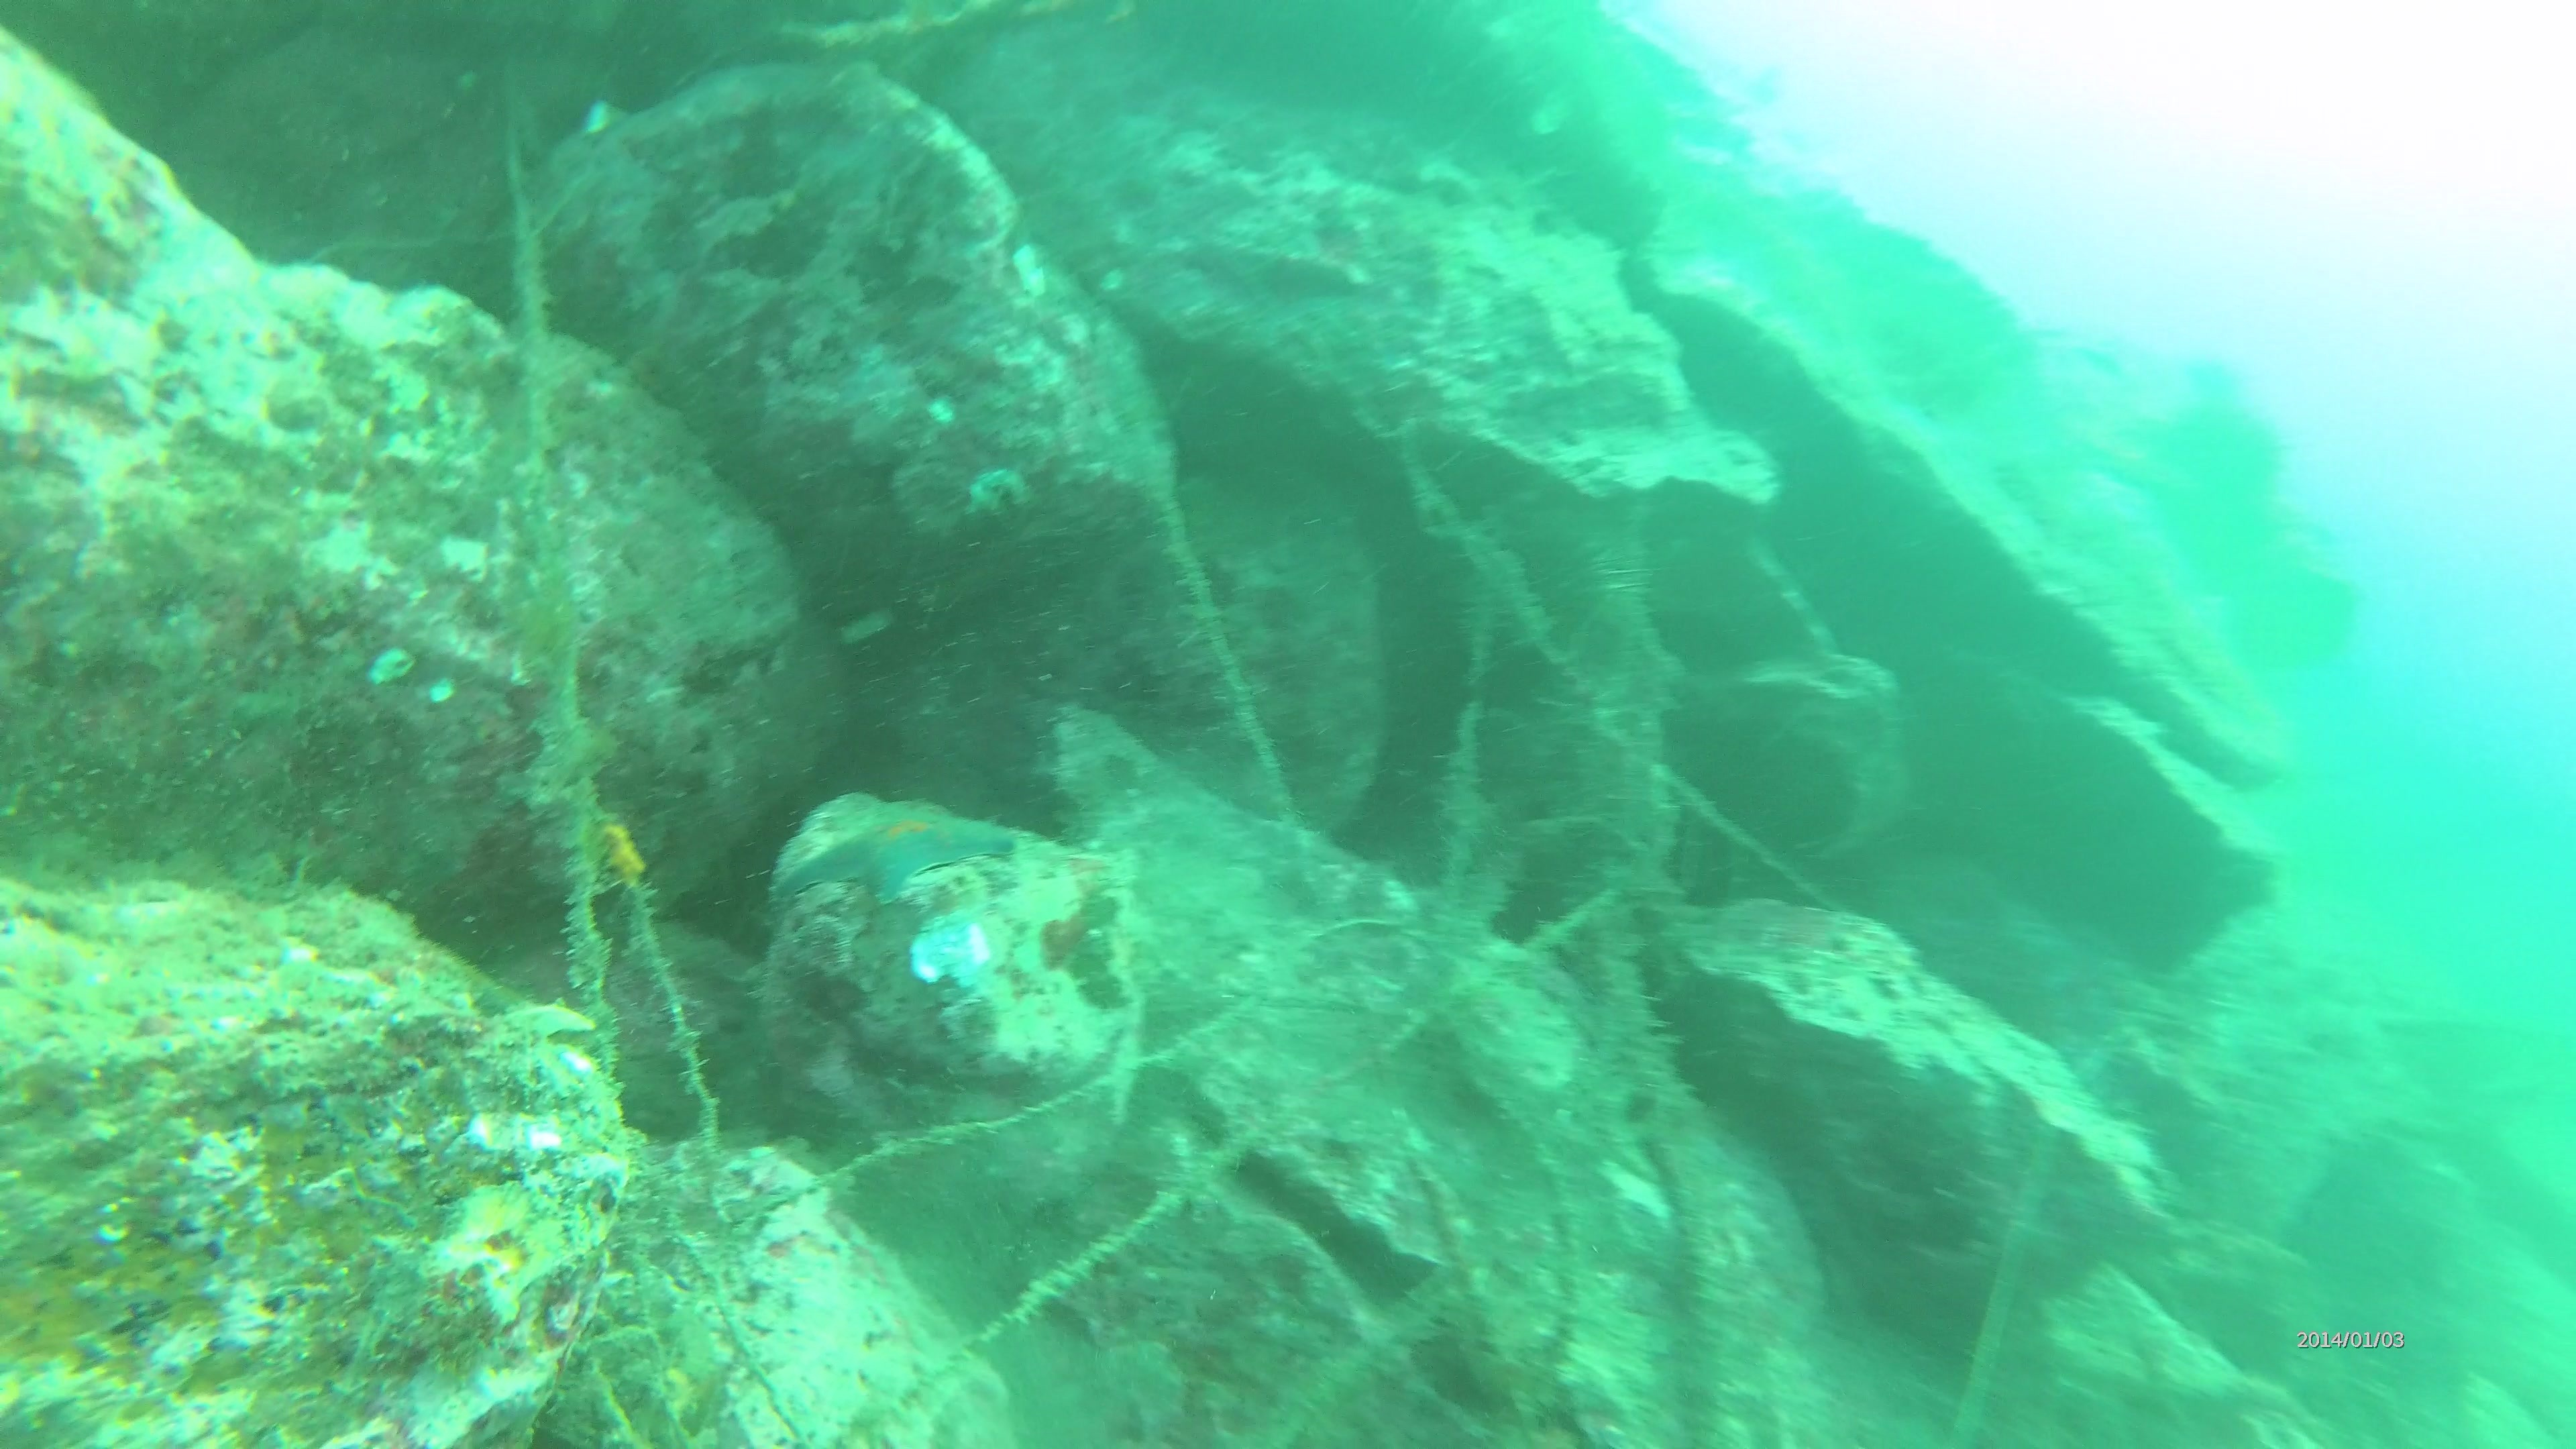starfish: (780, 793, 1028, 911)
